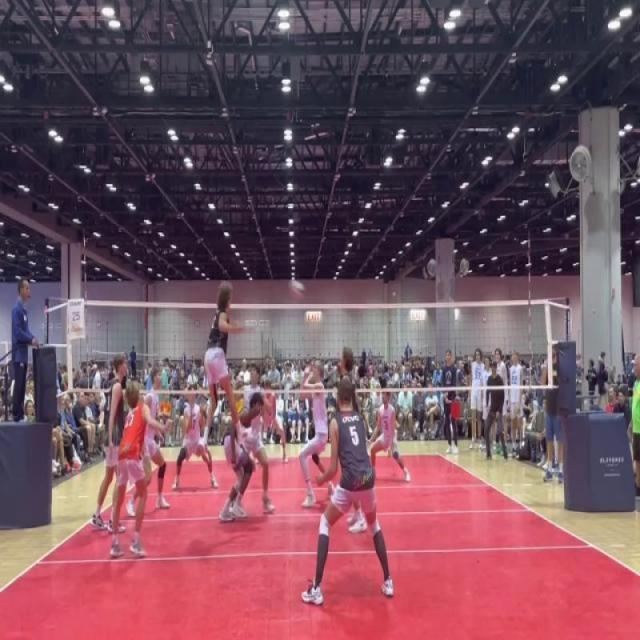volleyball: (288, 278, 306, 300)
